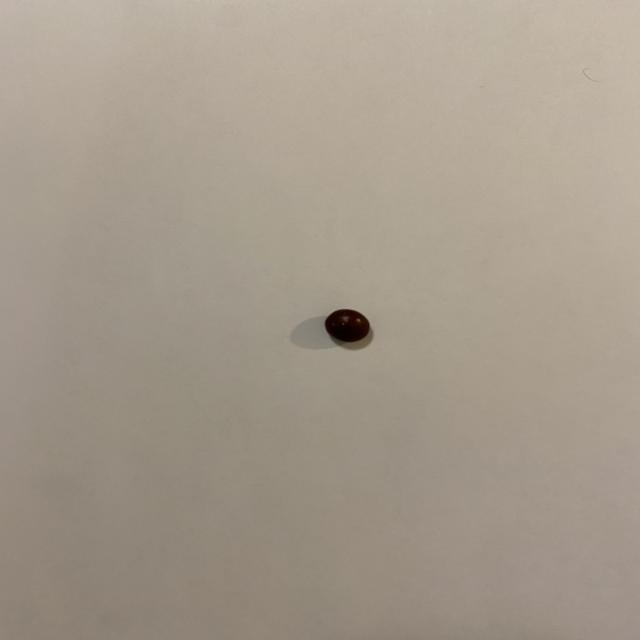smartie: (325, 309, 370, 342)
